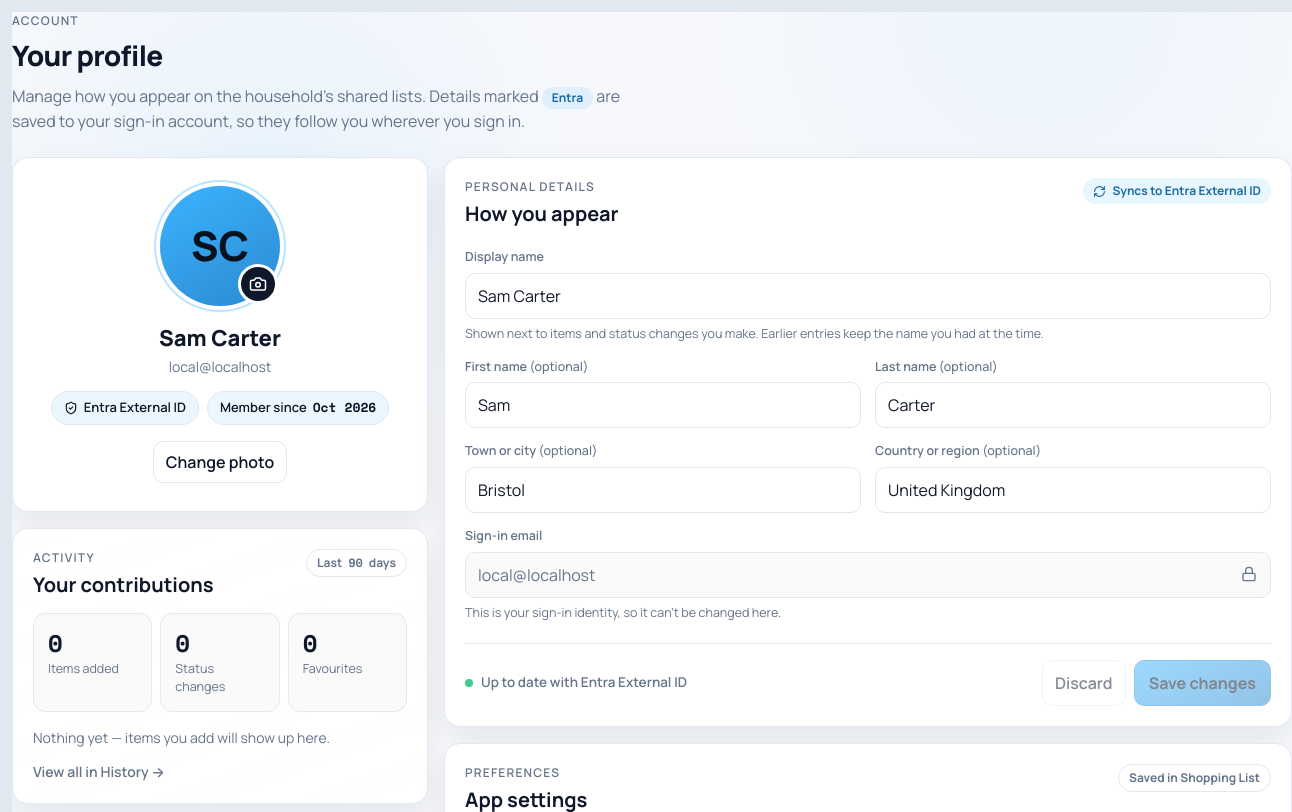
Test: ProfilePage › Discard restores the saved values
Type "xyz" into the field labelled "Last name (optional)" at (1073, 405), box [875,382,1271,428]
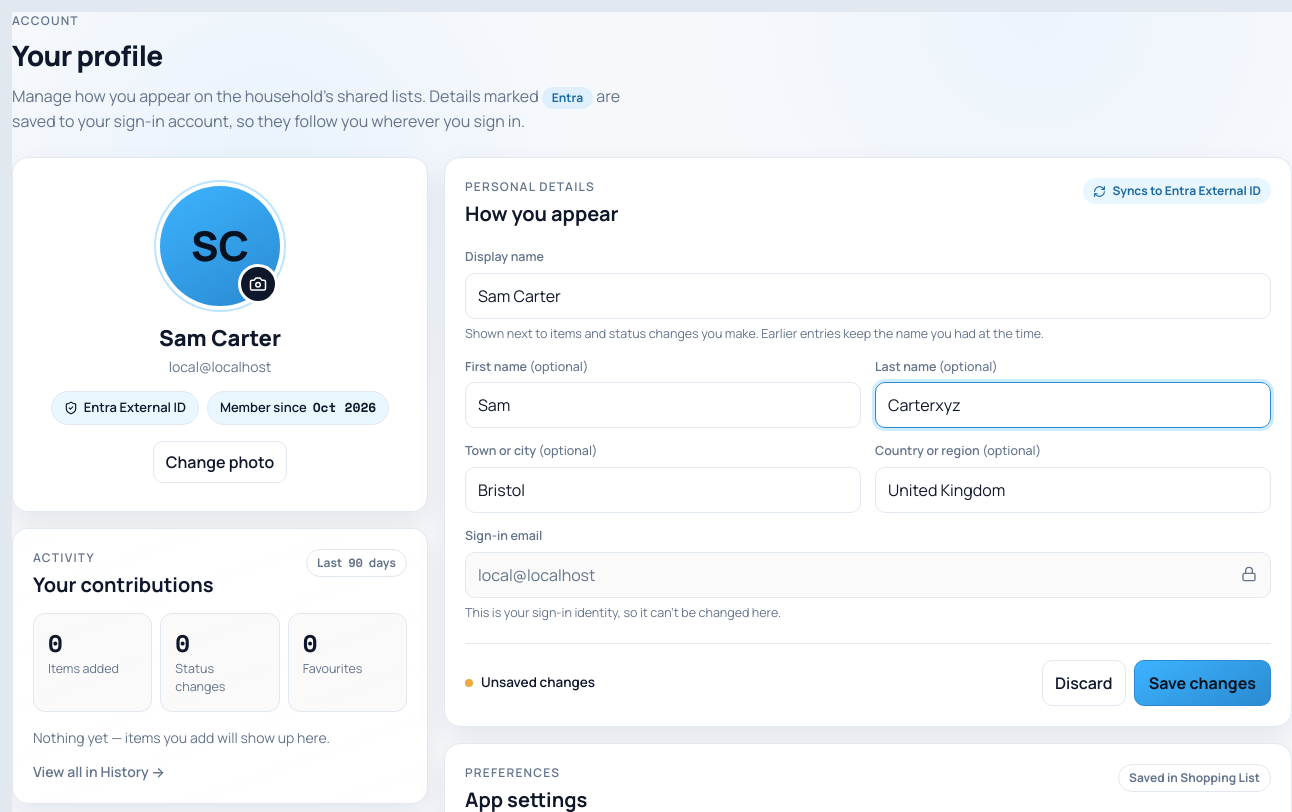
Click the button "Discard" at (1084, 682), box [1042,660,1126,706]
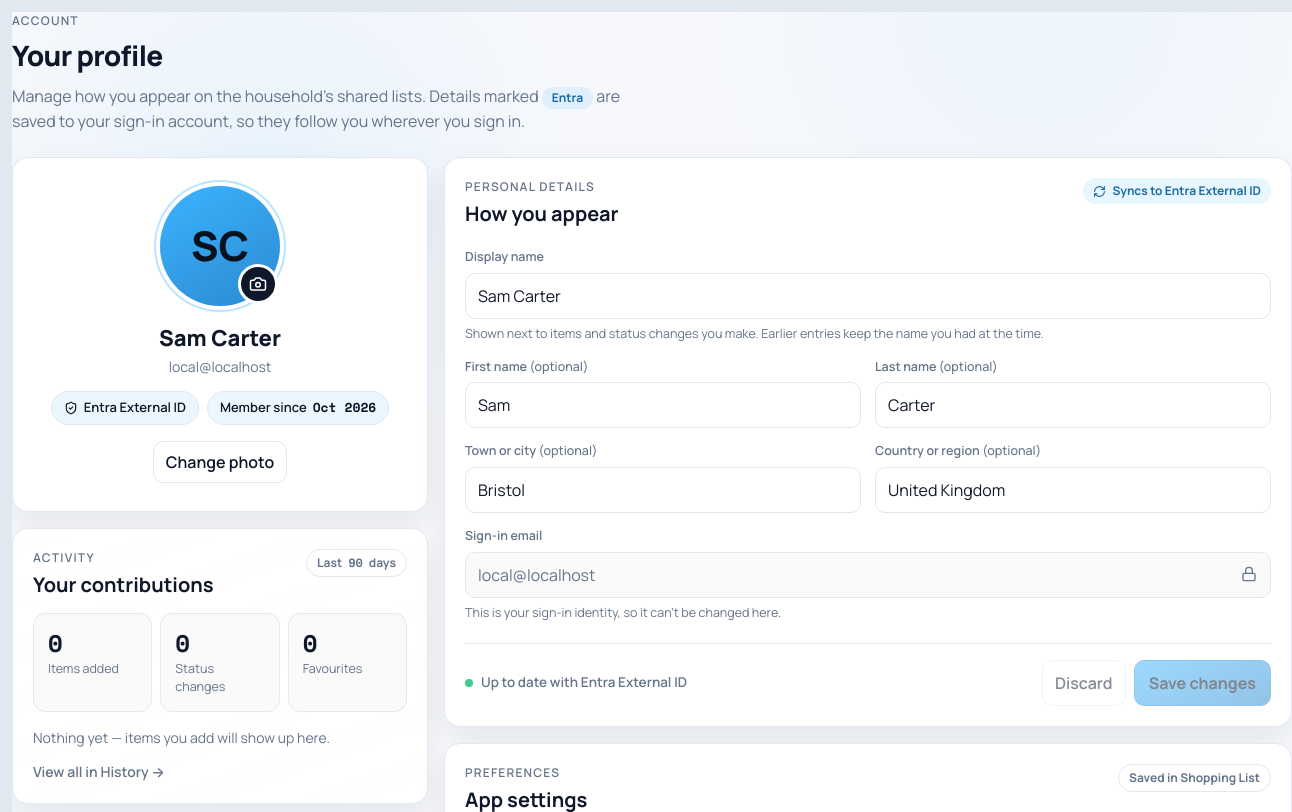
Expected: the field labelled "Last name (optional)" holds "Carter", [875,382,1271,428]
Expected: the button "Save changes" is disabled, [1134,660,1271,706]
